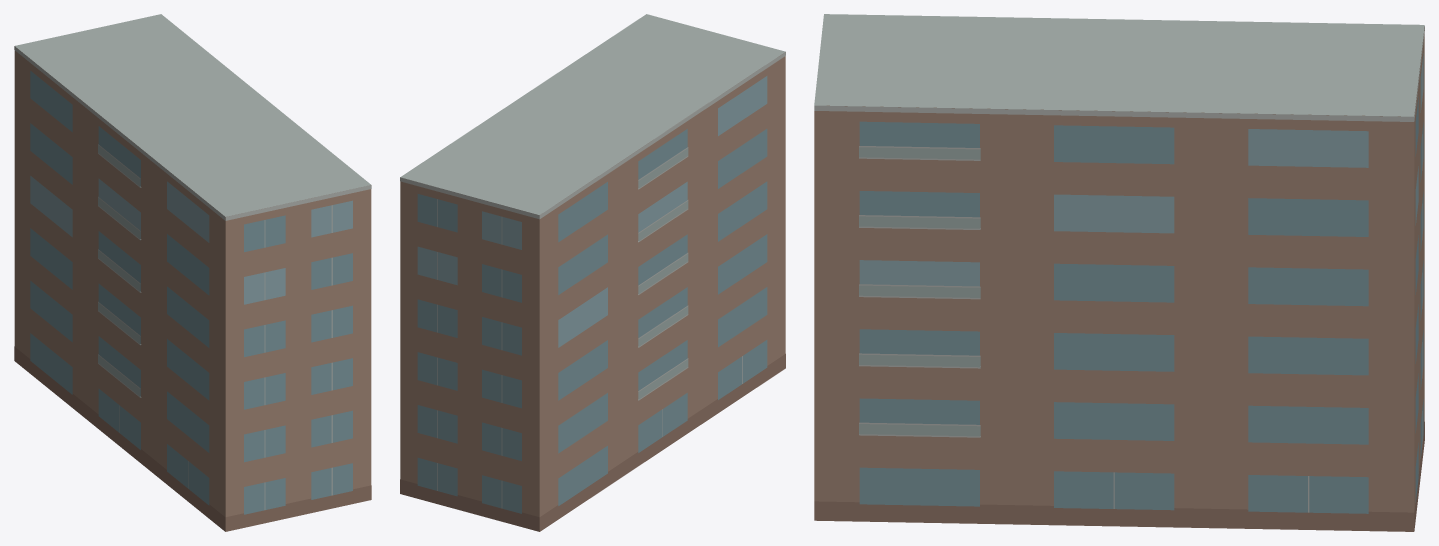
File: survey-upis-32566056.glb
3 views of the same model, side by side, from view 1: azimuth 30°, elevation 25°; view 2: azimuth 150°, elevation 25°; view 3: azimuth 270°, elevation 25° (orthographic). The views are drawn at different scales.
Visible parts, largest first — view 1: survey-upis-32566056.tmp; view 2: survey-upis-32566056.tmp; view 3: survey-upis-32566056.tmp.
Boxes of the visible parts, left/top/right/bottom form: survey-upis-32566056.tmp: left=14, top=14, right=371, bottom=531; survey-upis-32566056.tmp: left=400, top=14, right=785, bottom=531; survey-upis-32566056.tmp: left=814, top=14, right=1424, bottom=531.
Size of the model in its own units: 10.01 by 18.85 by 25.14.
